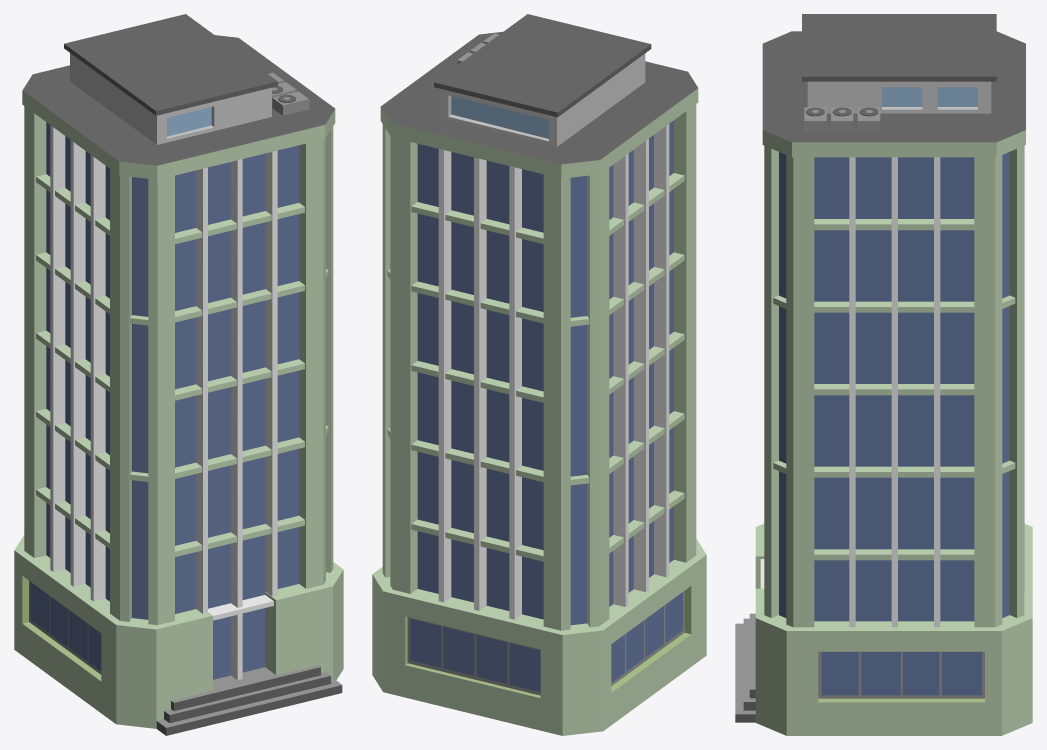
The model's file is house_middle_003.glb.
3 renders of one model, left to right at view 1: azimuth 30°, elevation 25°; view 2: azimuth 150°, elevation 25°; view 3: azimuth 270°, elevation 25°, orthographic. The views are drawn at different scales.
Parts seen in each view (by area): view 1: house_middle_003; view 2: house_middle_003; view 3: house_middle_003.
Part boxes in pixels (box(x1,y1,x2,y2)): house_middle_003: box(14, 14, 343, 735); house_middle_003: box(372, 14, 706, 735); house_middle_003: box(735, 14, 1032, 735).
Size of the model in its own units: 7.58 by 18.98 by 8.13.
Materials: 1 (1 with a texture image).
